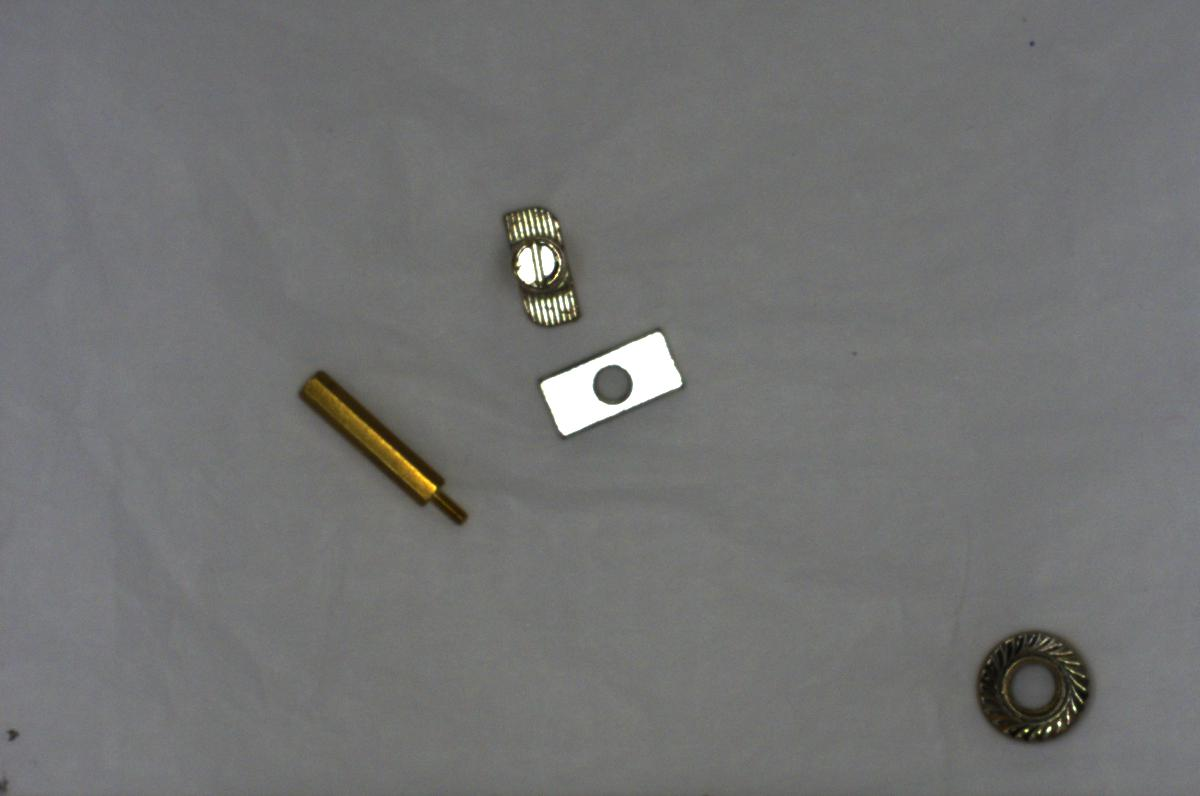Flange nut: (965, 621, 1098, 749)
Hexagon pillar: (292, 368, 474, 532)
Rectangular nut: (520, 326, 695, 448)
T-shaped screw: (495, 198, 585, 330)
